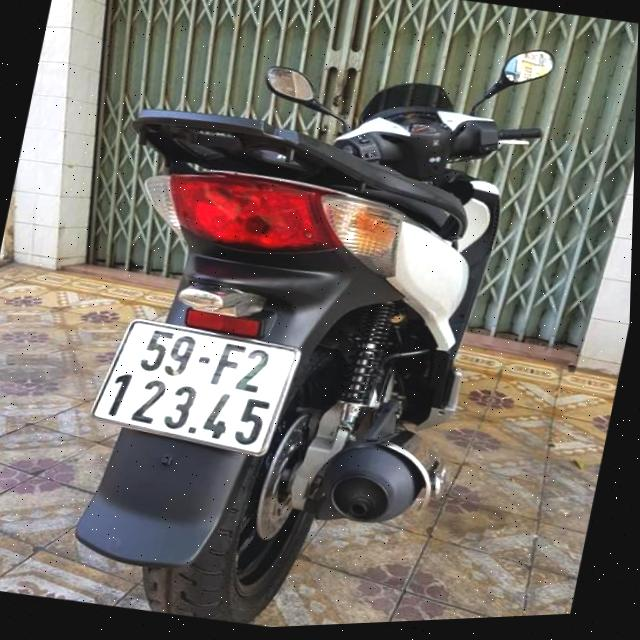motorcycle: (30, 0, 588, 638)
plate: (86, 302, 306, 469)
